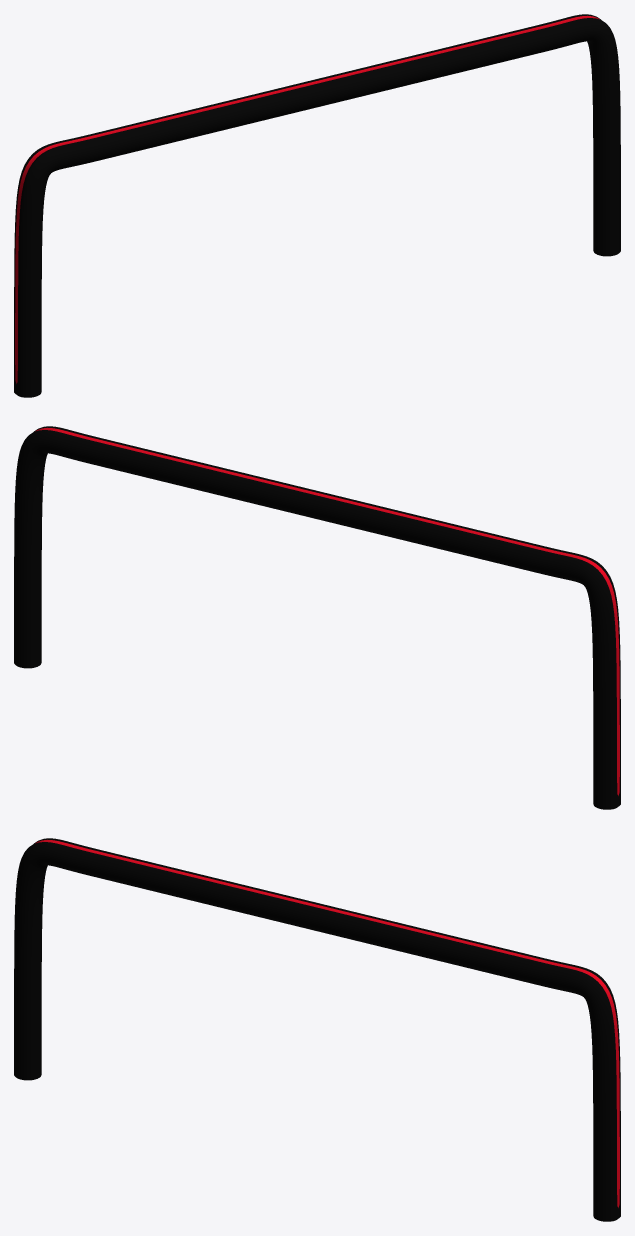
File: Railing NEON.fbx
3 views of the same model, one above another, from view 1: azimuth 30°, elevation 25°; view 2: azimuth 150°, elevation 25°; view 3: azimuth 330°, elevation 25° (orthographic).
Visible parts, largest first — view 1: BézierCurve; view 2: BézierCurve; view 3: BézierCurve.
Part boxes in pixels (bbox=[...]): BézierCurve: bbox=[14, 14, 620, 397]; BézierCurve: bbox=[14, 426, 620, 809]; BézierCurve: bbox=[14, 838, 620, 1221].
Size of the model in its own units: 824 by 314 by 32.48.
